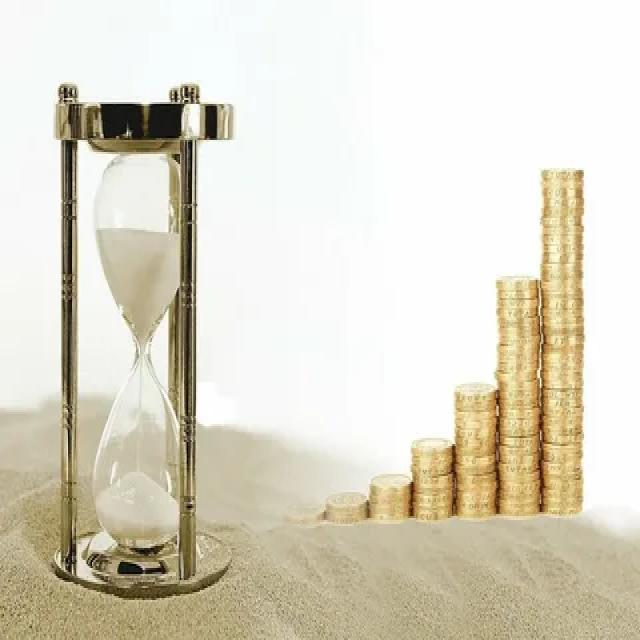clock: (42, 75, 239, 608)
